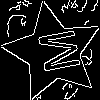M: (28, 27, 81, 77)
